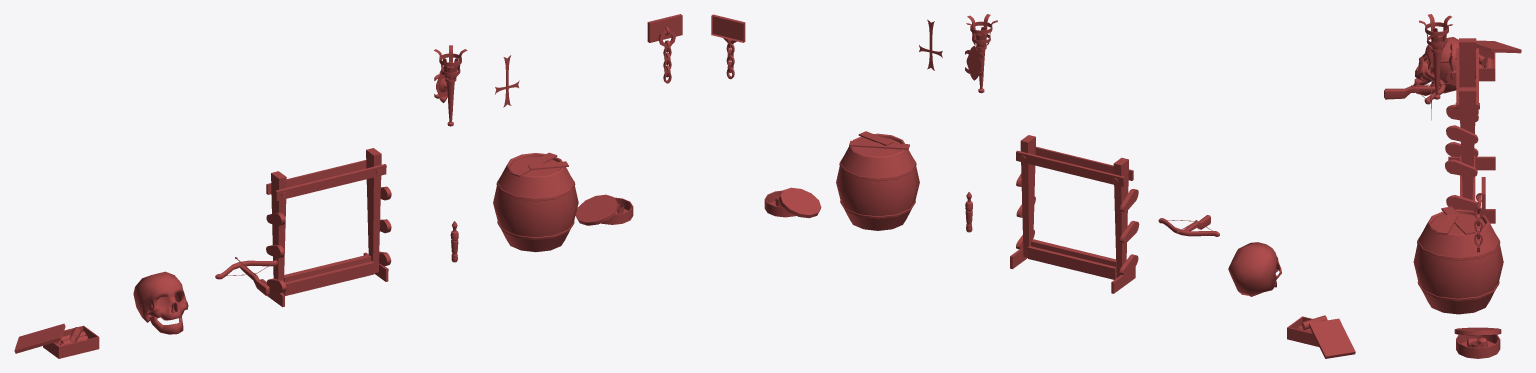
Rendered from Props.fbx.
3 renders of one model, left to right at view 1: azimuth 30°, elevation 25°; view 2: azimuth 150°, elevation 25°; view 3: azimuth 270°, elevation 25°, orthographic. The views are drawn at different scales.
Visible parts, largest first — view 1: WeaponStand, SmallBarrel, Skull, SotgunAmmo, PistolAmmo, Chain, Torch, Crossbow; view 2: WeaponStand, SmallBarrel, Skull, SotgunAmmo, PistolAmmo, Torch, Chain, Crossbow; view 3: SmallBarrel, WeaponStand, PistolAmmo, Skull, Torch, SotgunAmmo, Crossbow, Chain.
Part boxes in pixels (x1,y1,x2,y2): WeaponStand: (260, 148, 391, 307); SmallBarrel: (493, 152, 578, 252); Skull: (133, 271, 188, 334); SotgunAmmo: (14, 323, 99, 358); PistolAmmo: (575, 194, 633, 225); Chain: (647, 14, 682, 83); Torch: (434, 45, 467, 126); Crossbow: (215, 257, 277, 295); WeaponStand: (1010, 135, 1139, 293); SmallBarrel: (836, 131, 919, 230); Skull: (1228, 242, 1281, 296); SotgunAmmo: (1287, 315, 1355, 358); PistolAmmo: (764, 187, 821, 218); Torch: (965, 14, 997, 93); Chain: (711, 14, 745, 79); Crossbow: (1158, 215, 1219, 236); SmallBarrel: (1413, 206, 1503, 314); WeaponStand: (1445, 38, 1495, 223); PistolAmmo: (1454, 327, 1501, 358); Skull: (1413, 37, 1479, 95); Torch: (1419, 14, 1452, 99); SotgunAmmo: (1475, 40, 1521, 81); Crossbow: (1384, 69, 1449, 104); Chain: (1474, 177, 1485, 252).
Bounding box in the file's own units: 5.53 × 1.78 × 0.9416.
